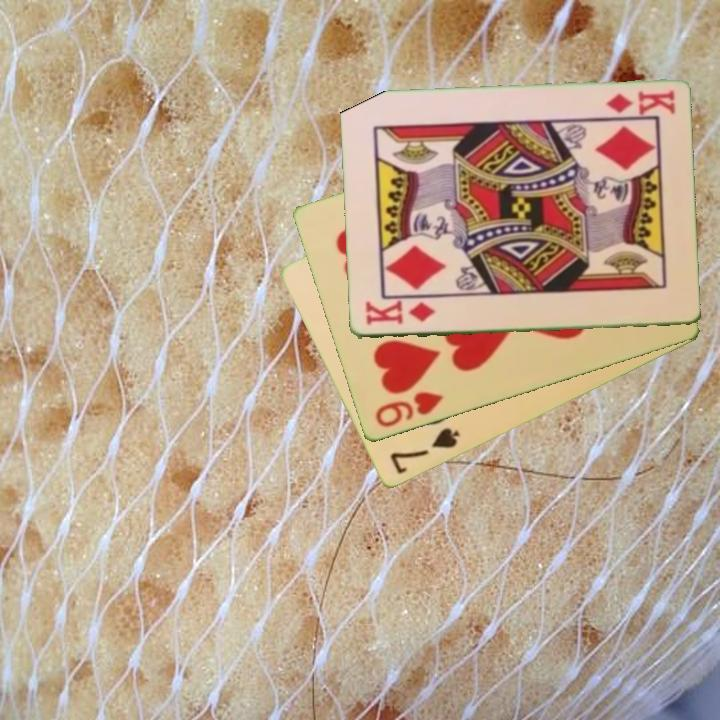7s: (386, 424, 463, 478)
9h: (371, 388, 446, 431)
Kd: (362, 298, 438, 328), (602, 87, 678, 117)
